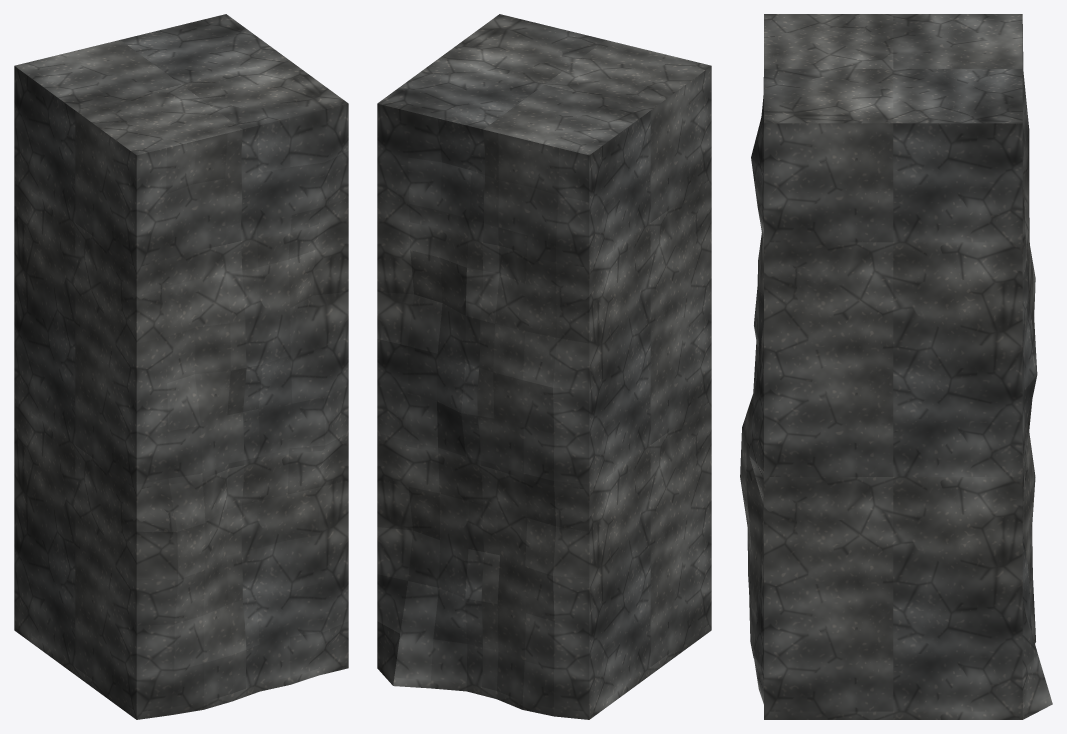
The model's file is kit_wall_cave_span.glb.
3 views of the same model, side by side, from view 1: azimuth 30°, elevation 25°; view 2: azimuth 150°, elevation 25°; view 3: azimuth 270°, elevation 25° (orthographic). The views are drawn at different scales.
Parts seen in each view (by area): view 1: kit_wall_cave_span; view 2: kit_wall_cave_span; view 3: kit_wall_cave_span.
Part boxes in pixels (left/top/right/bottom): kit_wall_cave_span: left=14, top=14, right=348, bottom=719; kit_wall_cave_span: left=377, top=14, right=711, bottom=719; kit_wall_cave_span: left=740, top=14, right=1052, bottom=719.
Bounding box in the file's own units: 2.8 × 7.12 × 3.38.
Materials: 1 (1 with a texture image).
